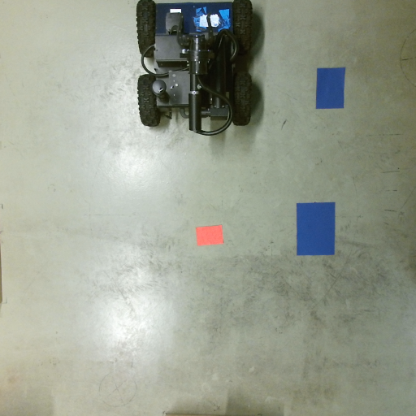Blue: (293, 200, 337, 258), (314, 66, 347, 109)
Jaguar: (133, 0, 253, 140)
Red: (193, 223, 224, 248)
